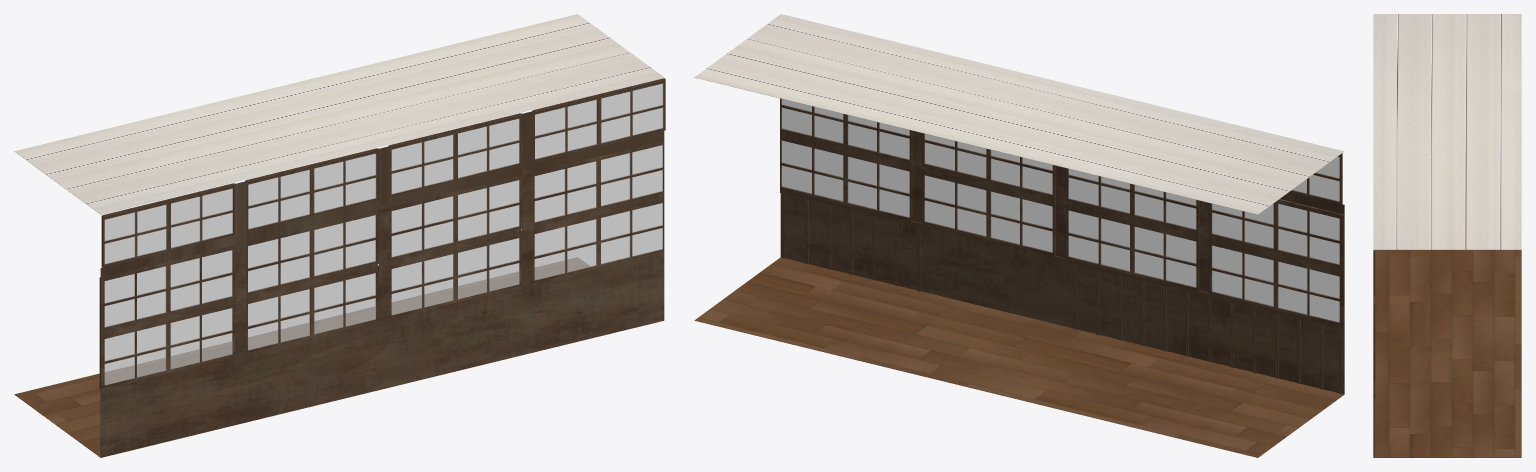
The model's file is corridor_module.fbx.
3 views of the same model, side by side, from view 1: azimuth 30°, elevation 25°; view 2: azimuth 150°, elevation 25°; view 3: azimuth 270°, elevation 25° (orthographic). The views are drawn at different scales.
Visible parts, largest first — view 1: floor_ceiling_module1, Plane.017, Plane.018, Plane.016, Plane.019; view 2: floor_ceiling_module1, Plane.018, Plane.017, Plane.019, Plane.010, Plane.016; view 3: floor_ceiling_module1, Plane.018.
Part boxes in pixels (box(x1,y1,x2,y2)): floor_ceiling_module1: box(14, 14, 663, 457); Plane.017: box(100, 111, 664, 457); Plane.018: box(99, 140, 664, 388); Plane.016: box(101, 78, 665, 267); Plane.019: box(389, 175, 522, 318); floor_ceiling_module1: box(694, 14, 1344, 457); Plane.018: box(780, 98, 1344, 326); Plane.017: box(780, 130, 1344, 394); Plane.019: box(922, 133, 1055, 255); Plane.010: box(781, 193, 1342, 394); Plane.016: box(1289, 153, 1342, 204); floor_ceiling_module1: box(1373, 14, 1521, 457); Plane.018: box(1373, 296, 1375, 398).
Bounding box in the file's own units: 1375 × 566 × 365.
